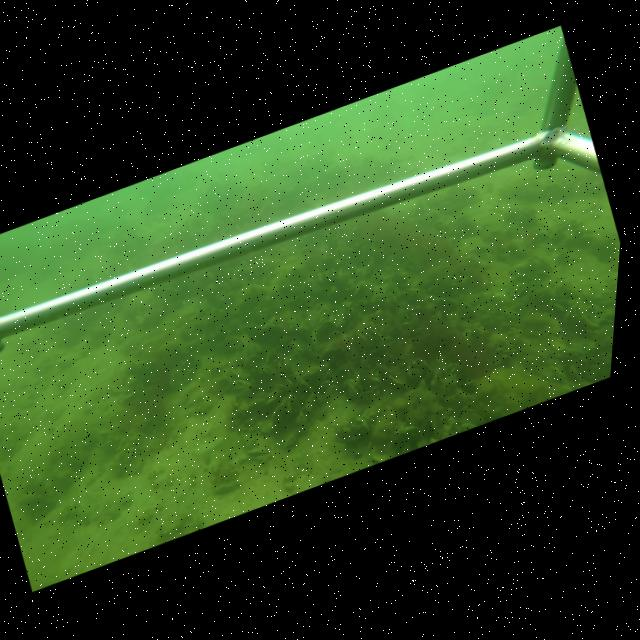Oyster-Closed: (291, 370, 315, 392), (284, 429, 299, 449)
Oyster-Indeterminate: (315, 319, 339, 343), (385, 374, 406, 389)
Oyster-Open: (245, 446, 272, 460)
